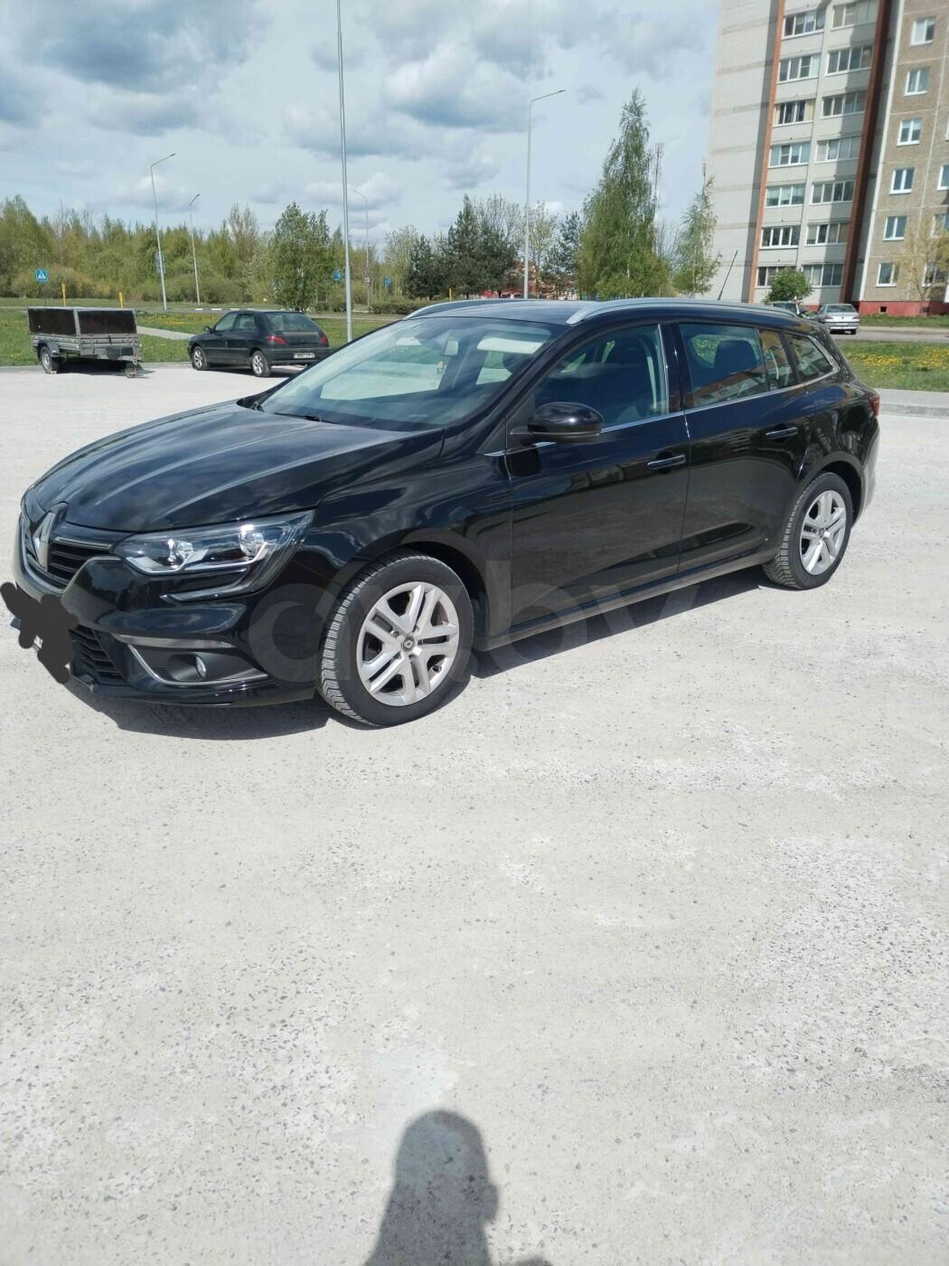Megane_2016-2020: (14, 282, 879, 723)
